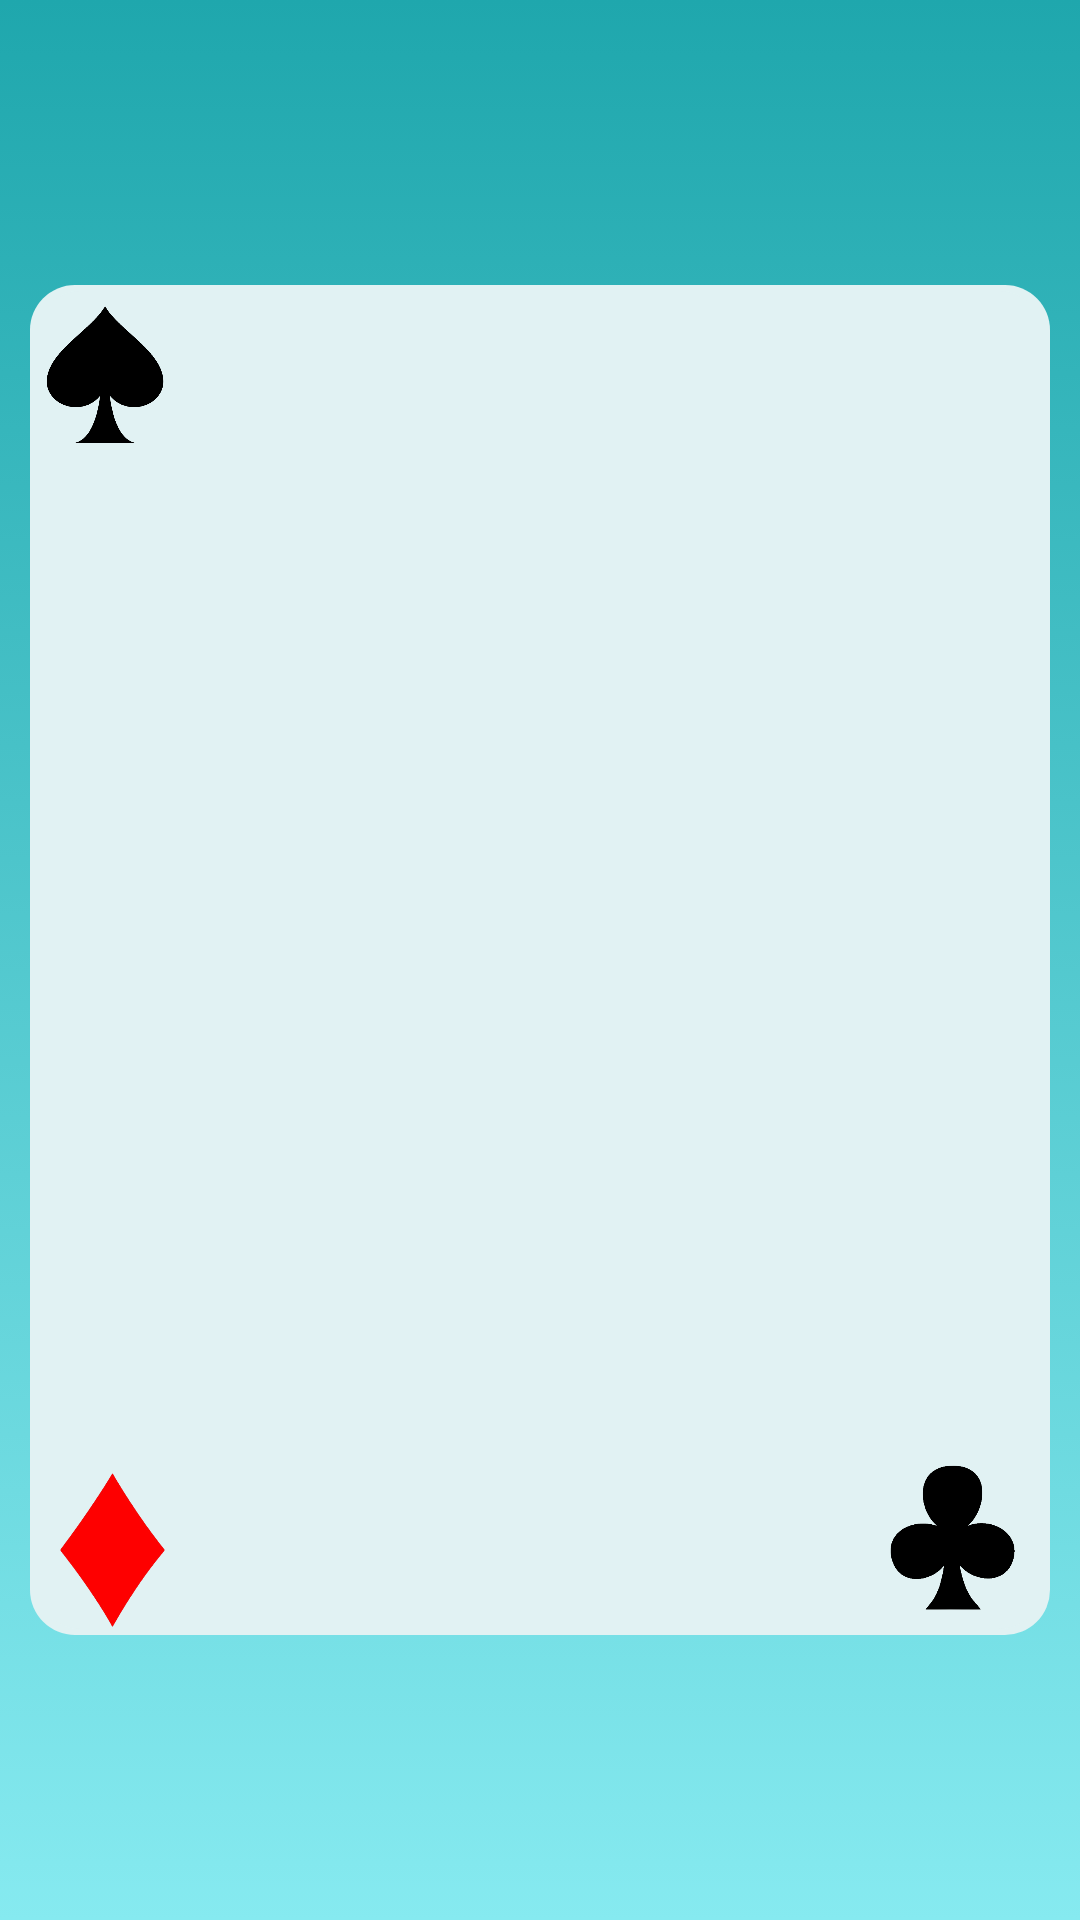

Point at icon controls on the screen. Image size 1080×1920, points as (x,y).
clubs: (952,1537)
diamonds: (112,1552)
spades: (105,375)
